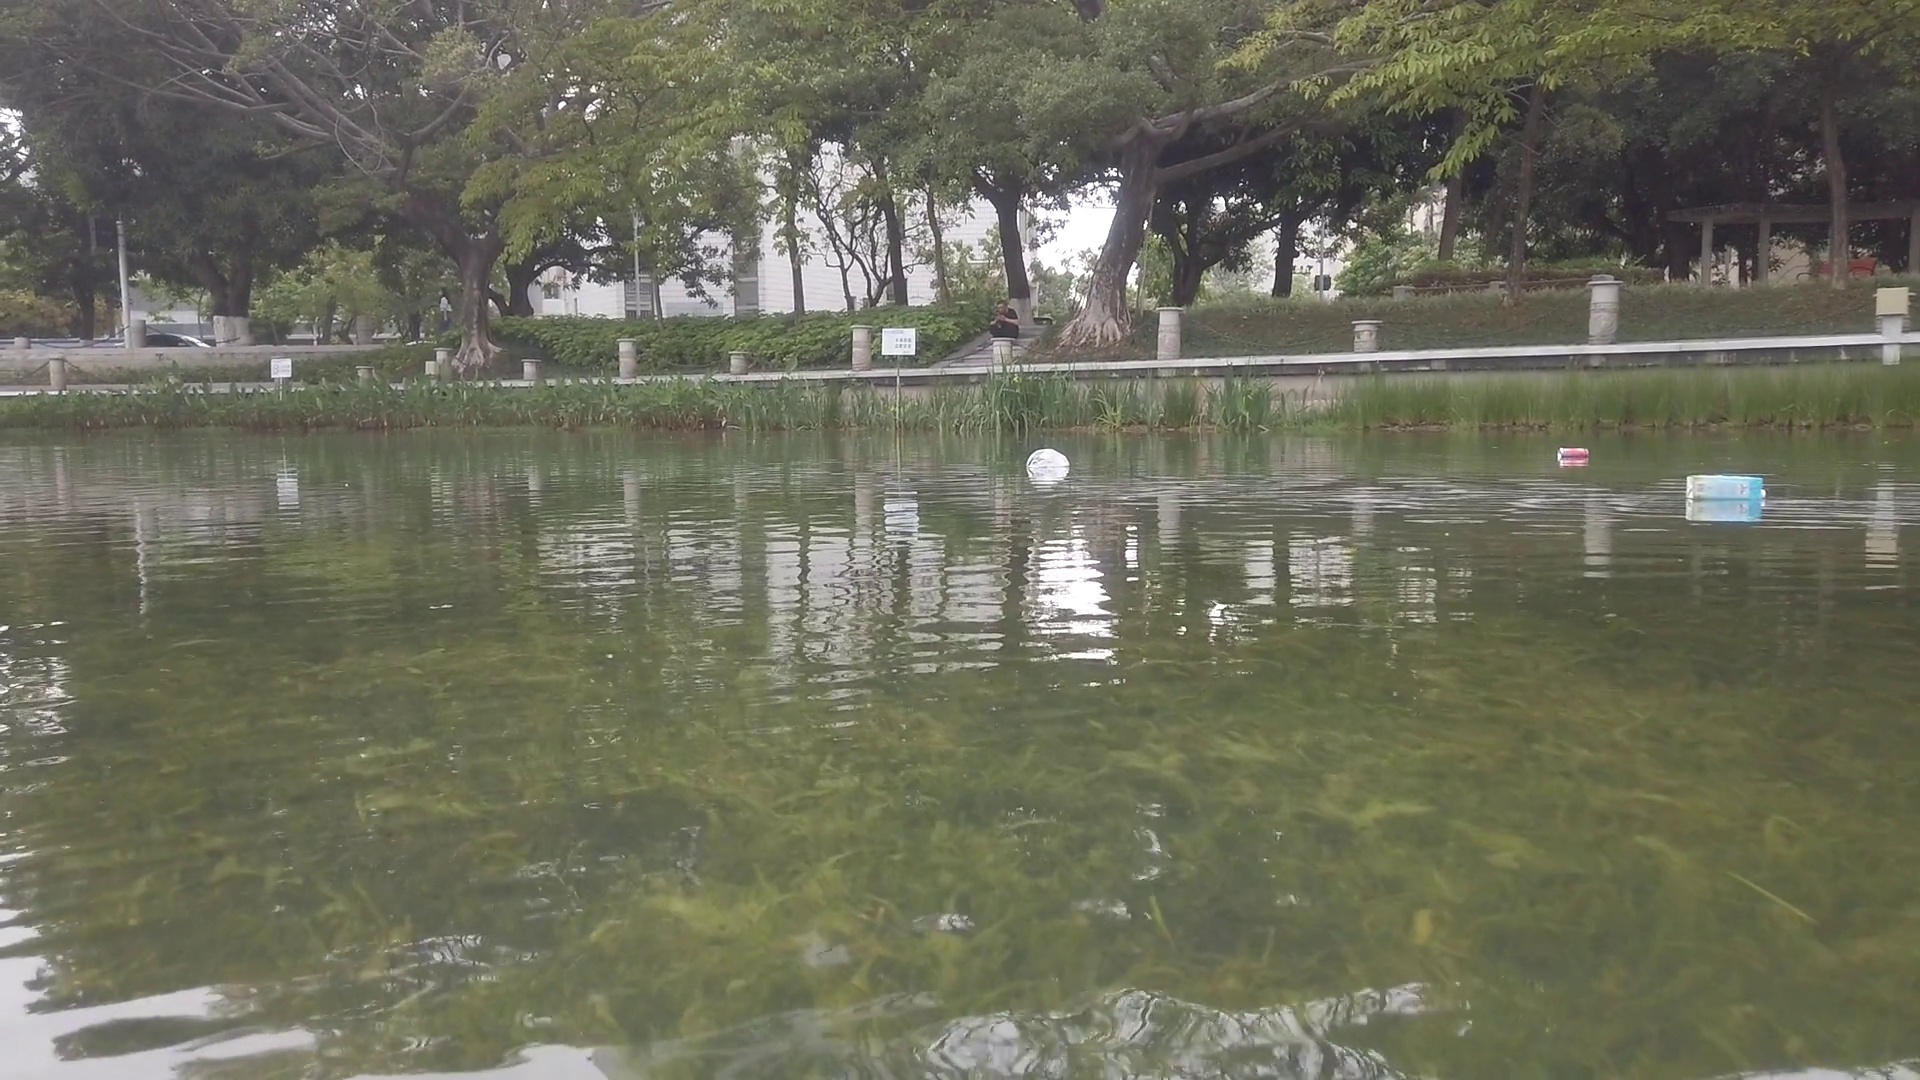bottle: (1557, 446, 1589, 462)
carton: (1688, 475, 1768, 502)
plastic: (1026, 446, 1068, 468)
